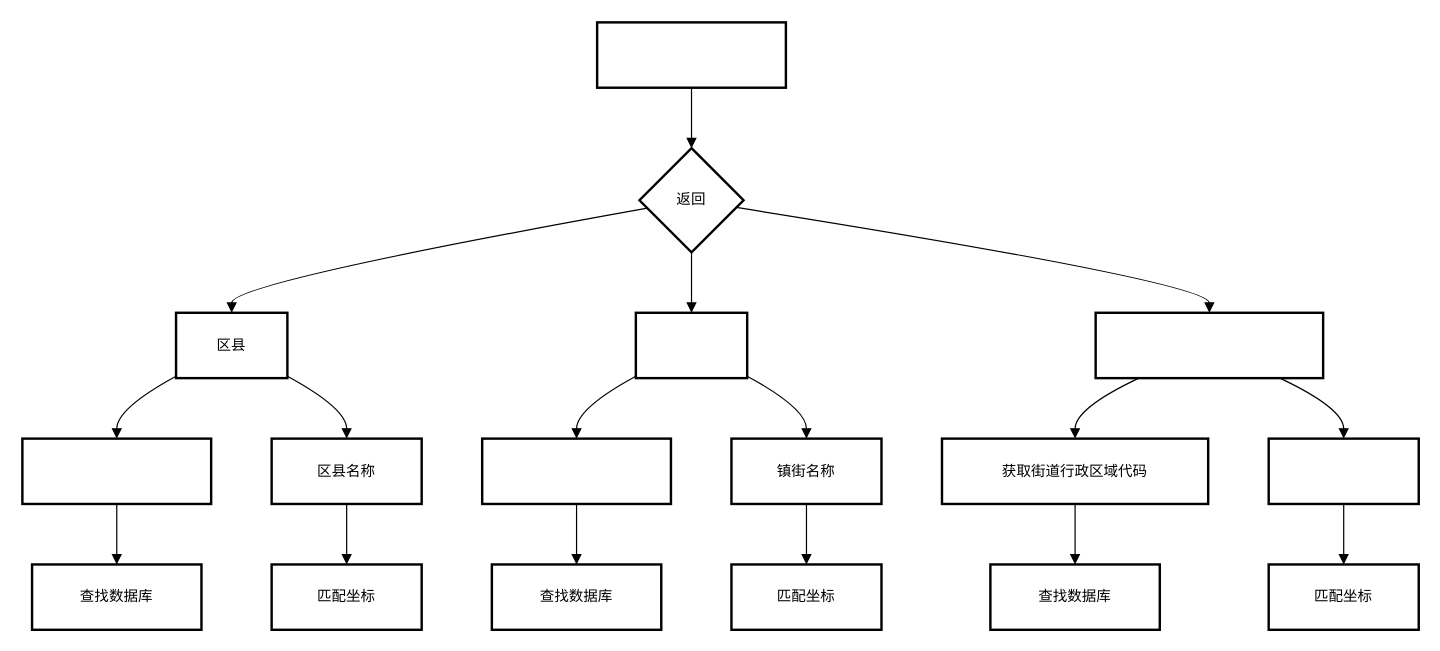
This 1440x651 diagram has some shape labels left out. The box of each missing label's shape, as (x1, y1, x2, y2) in pixels:
根据坐标查询: (595, 21, 786, 88)
获取区县代码: (21, 437, 212, 505)
获取镇街代码: (480, 437, 672, 505)
街道名称: (1267, 437, 1419, 505)
街道行政区域代码: (1094, 311, 1324, 379)
镇街: (634, 311, 748, 379)
